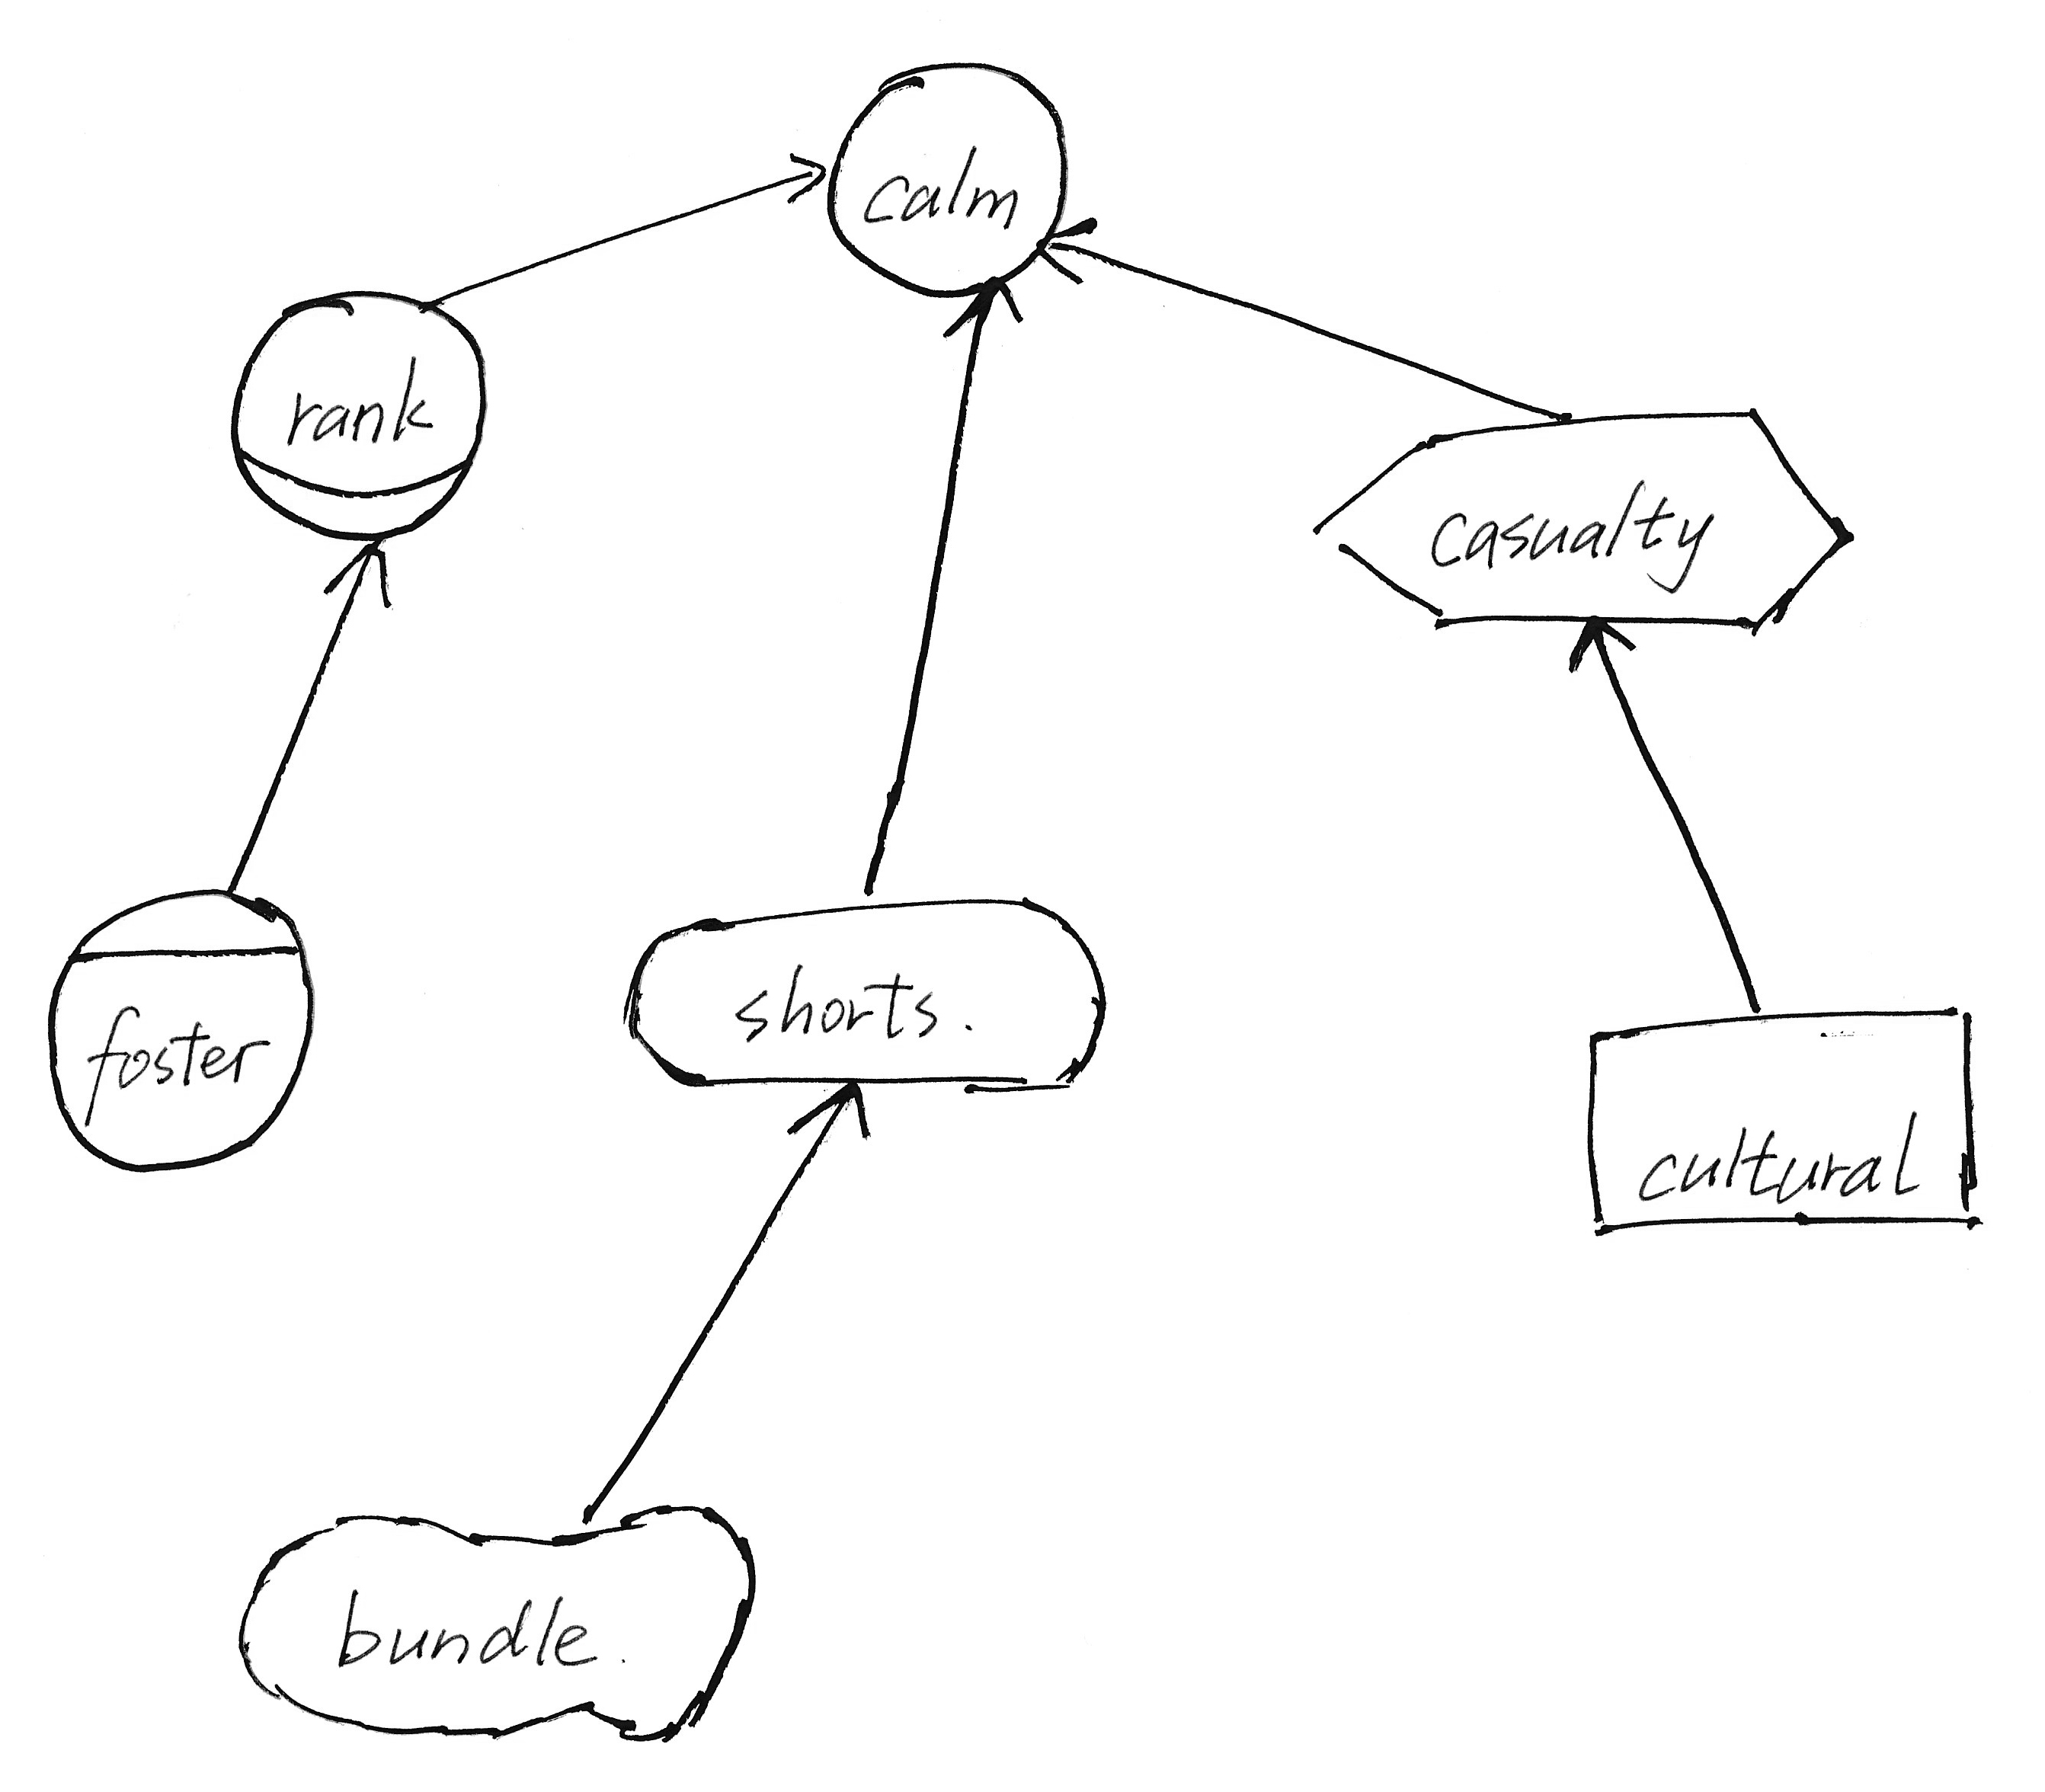actor: (814, 49, 1090, 306)
agent: (30, 874, 325, 1180)
arrow: (934, 266, 1035, 353), (784, 1065, 882, 1147), (323, 528, 405, 614), (1029, 202, 1106, 290), (1553, 607, 1643, 681), (777, 139, 833, 205)
goal: (610, 886, 1123, 1105)
quality: (221, 1483, 770, 1749)
resource: (1560, 994, 2005, 1251)
role: (217, 268, 499, 554)
task: (1297, 391, 1873, 645)
